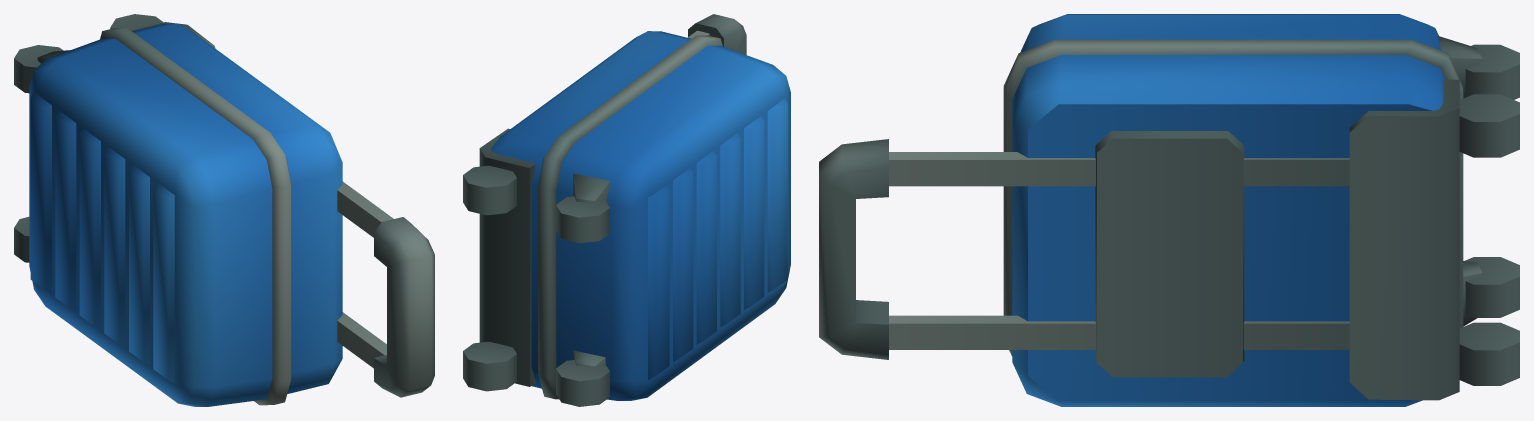
File: Melee_SuitCase.fbx
3 views of the same model, side by side, from view 1: azimuth 30°, elevation 25°; view 2: azimuth 150°, elevation 25°; view 3: azimuth 270°, elevation 25° (orthographic). The views are drawn at different scales.
Visible parts, largest first — view 1: Melee_SuitCase; view 2: Melee_SuitCase; view 3: Melee_SuitCase.
Boxes of the visible parts, <box> form: Melee_SuitCase: <box>14,14,434,406</box>; Melee_SuitCase: <box>463,14,790,406</box>; Melee_SuitCase: <box>819,14,1519,406</box>.
Bounding box in the file's own units: 0.308 × 0.8608 × 0.4576.
